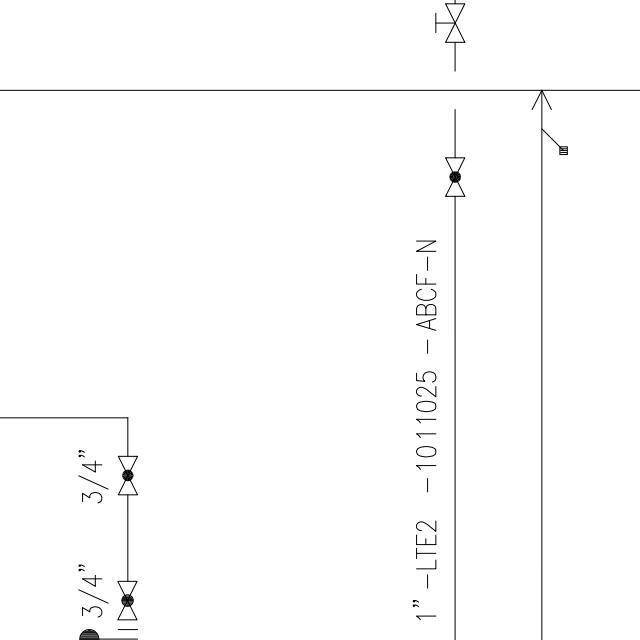BV2: (438, 151, 472, 204), (112, 453, 143, 501), (116, 573, 141, 628)
HV: (431, 0, 473, 51)
